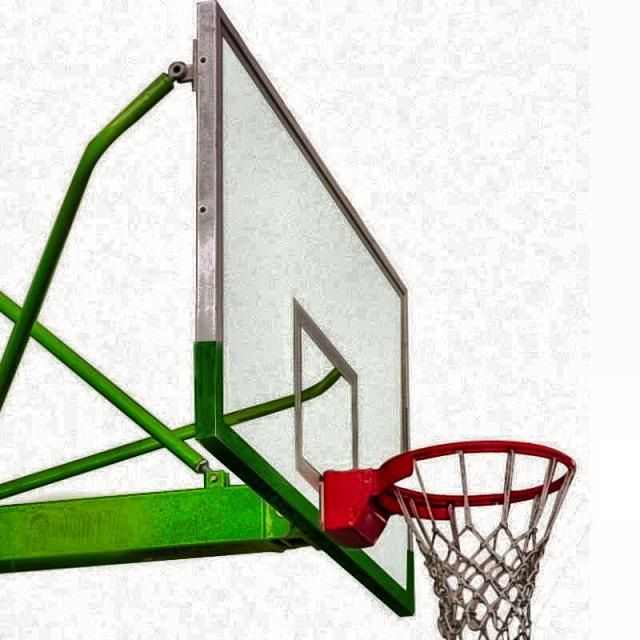rim: (388, 440, 578, 640)
